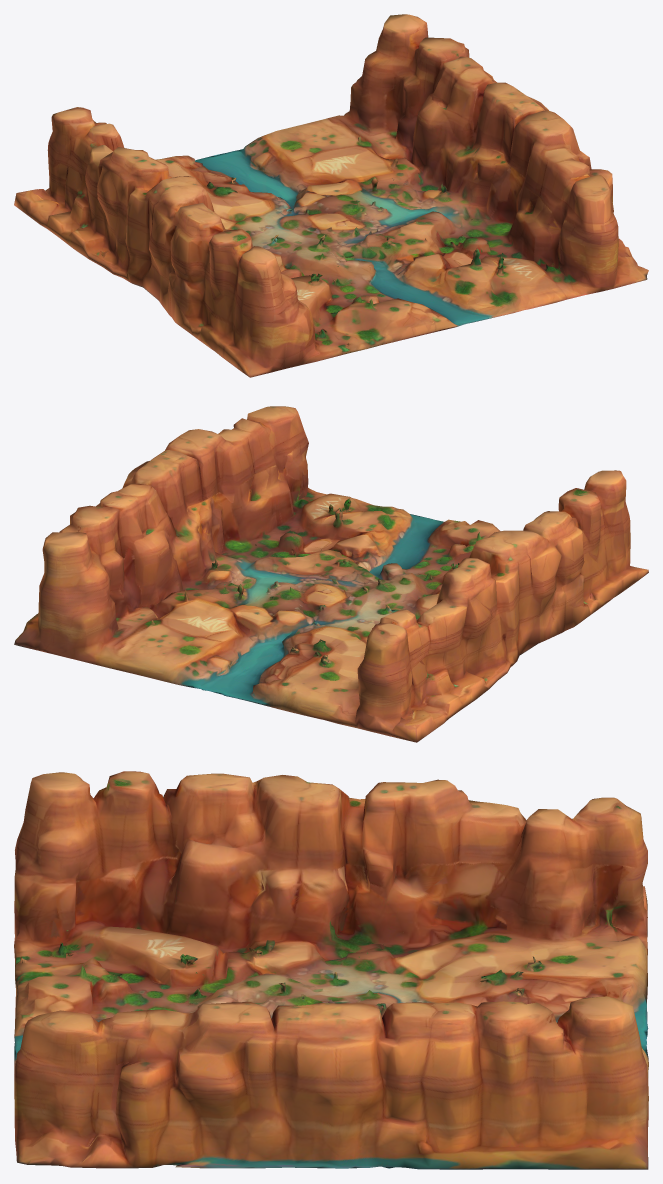
File: canion1.glb
The picture shows the model from 3 angles, top to bottom: view 1: azimuth 30°, elevation 25°; view 2: azimuth 150°, elevation 25°; view 3: azimuth 270°, elevation 25°; orthographic projection. The views are drawn at different scales.
Bounding box in the file's own units: 2 × 0.4882 × 2.
Materials: 1 (1 with a texture image).
